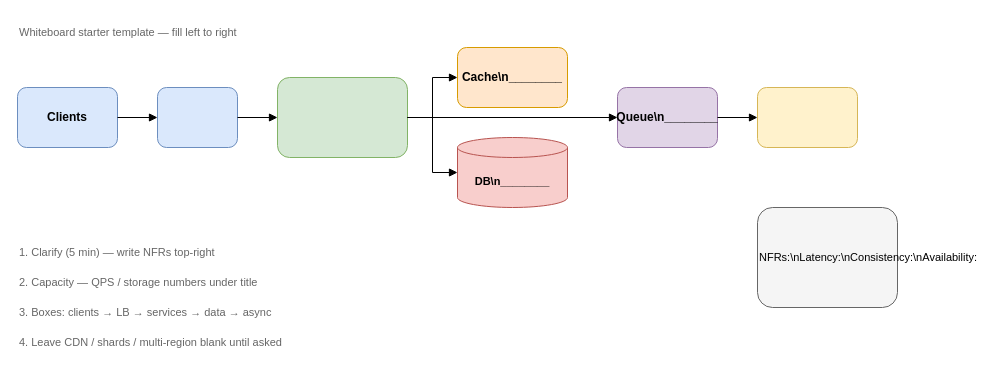
This 995x374 diagram has some shape labels left out. Here are the shapes that lost their labels. From the top down, the centre of each, then its label:
[197,117]: LB
[342,117]: Service(s)\n________
[807,117]: Workers\n________
